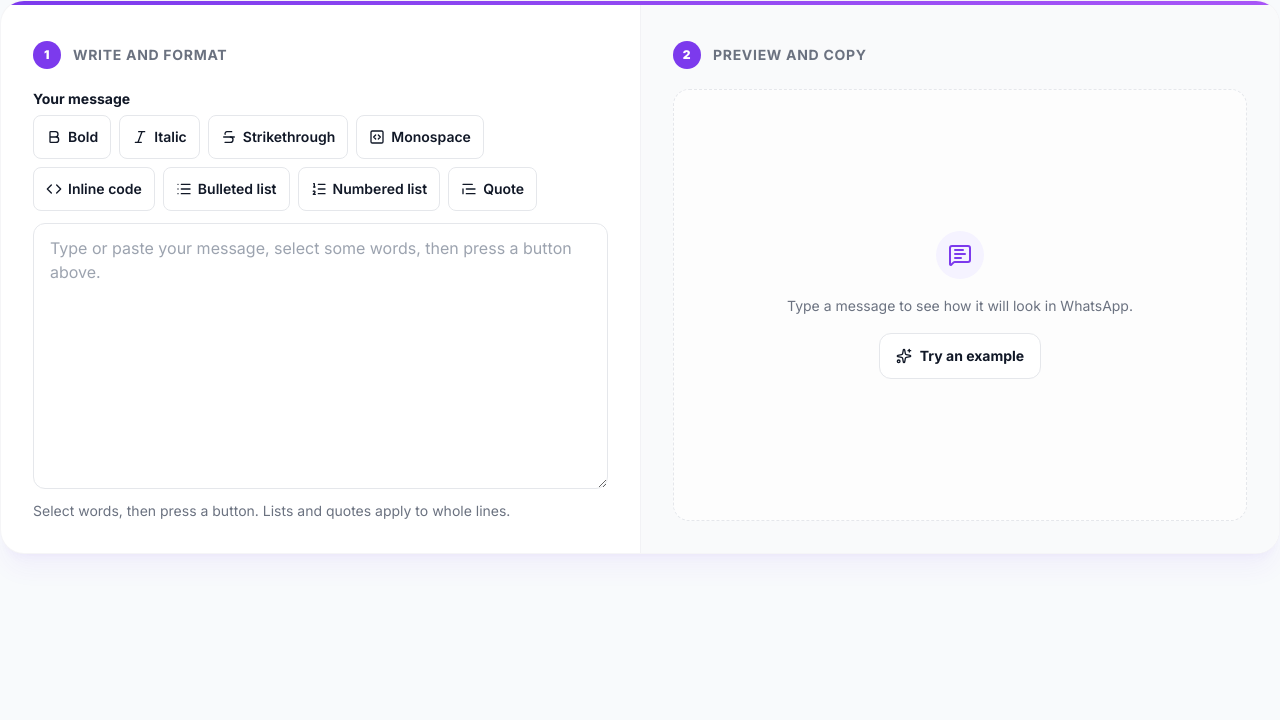
Scenario: TextFormatter › copies the message with its symbols, which is what WhatsApp reads
Replace the text in the text box labelled "Your message" with "hello" at (320, 356), box x1=33 y1=223 x2=608 y2=489
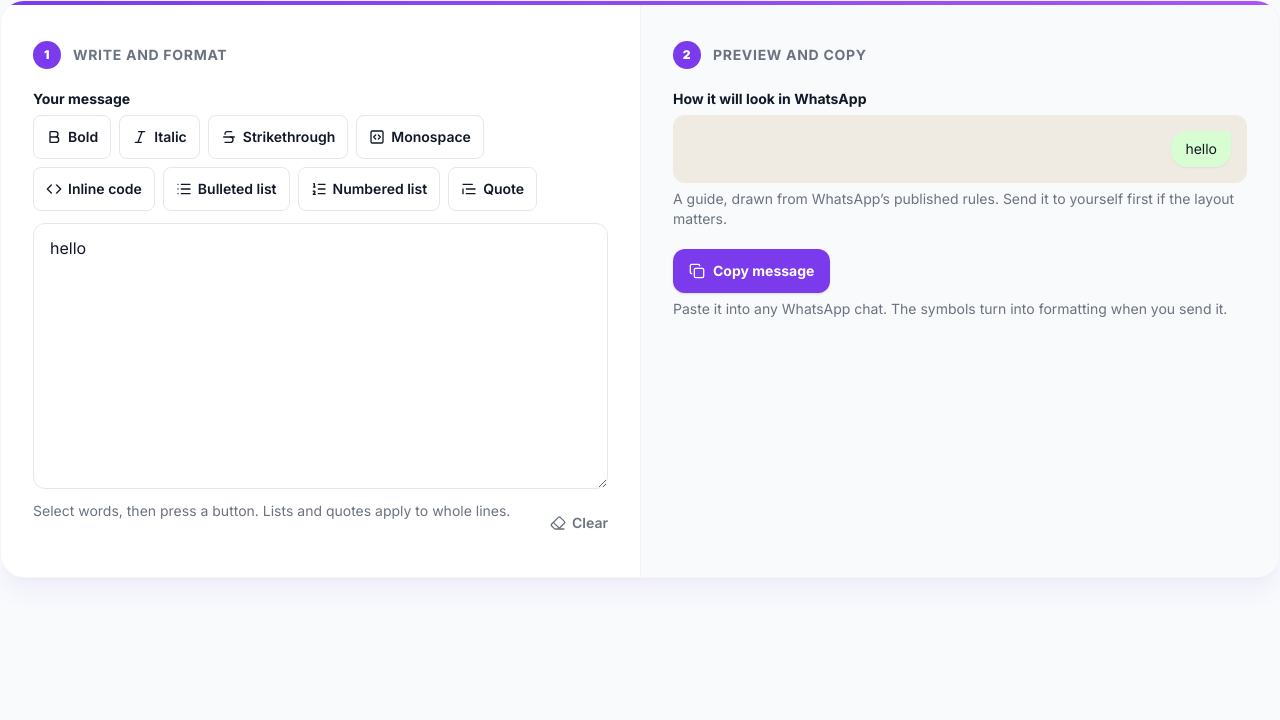
Click the button "Bold" at (72, 137), box x1=33 y1=115 x2=111 y2=159
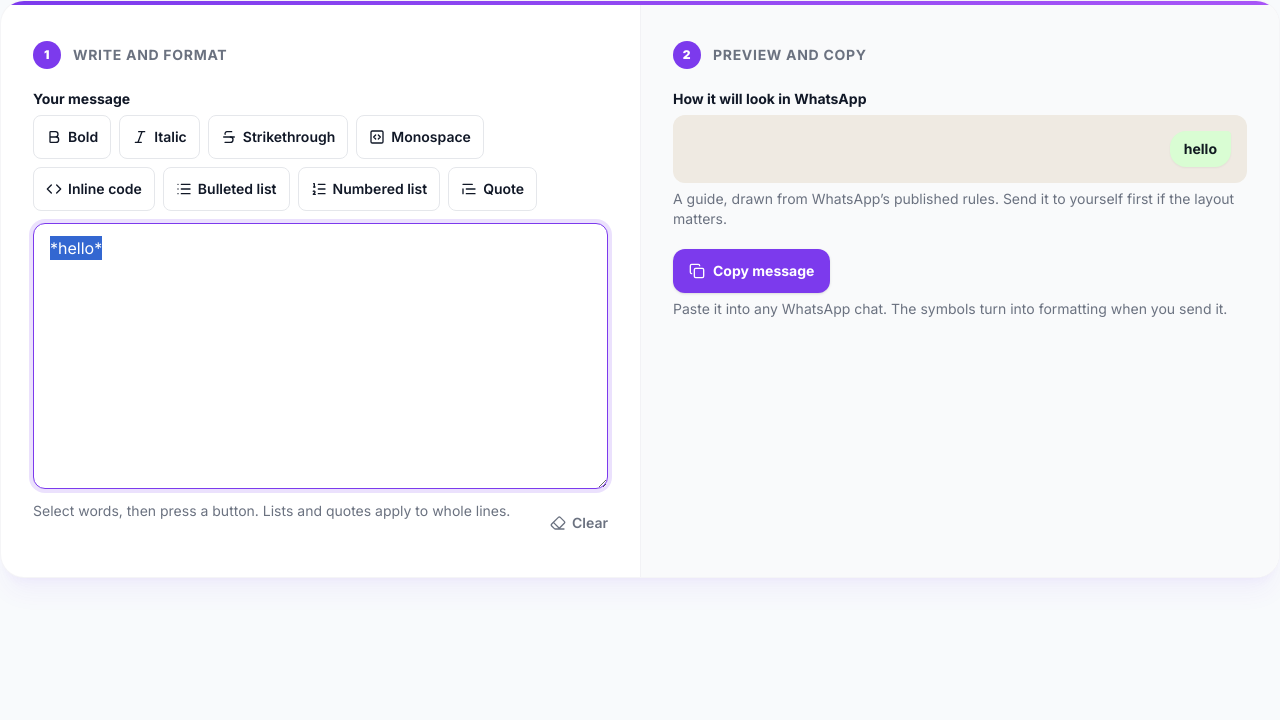
Click the button "Copy message" at (752, 271), box x1=673 y1=249 x2=830 y2=293
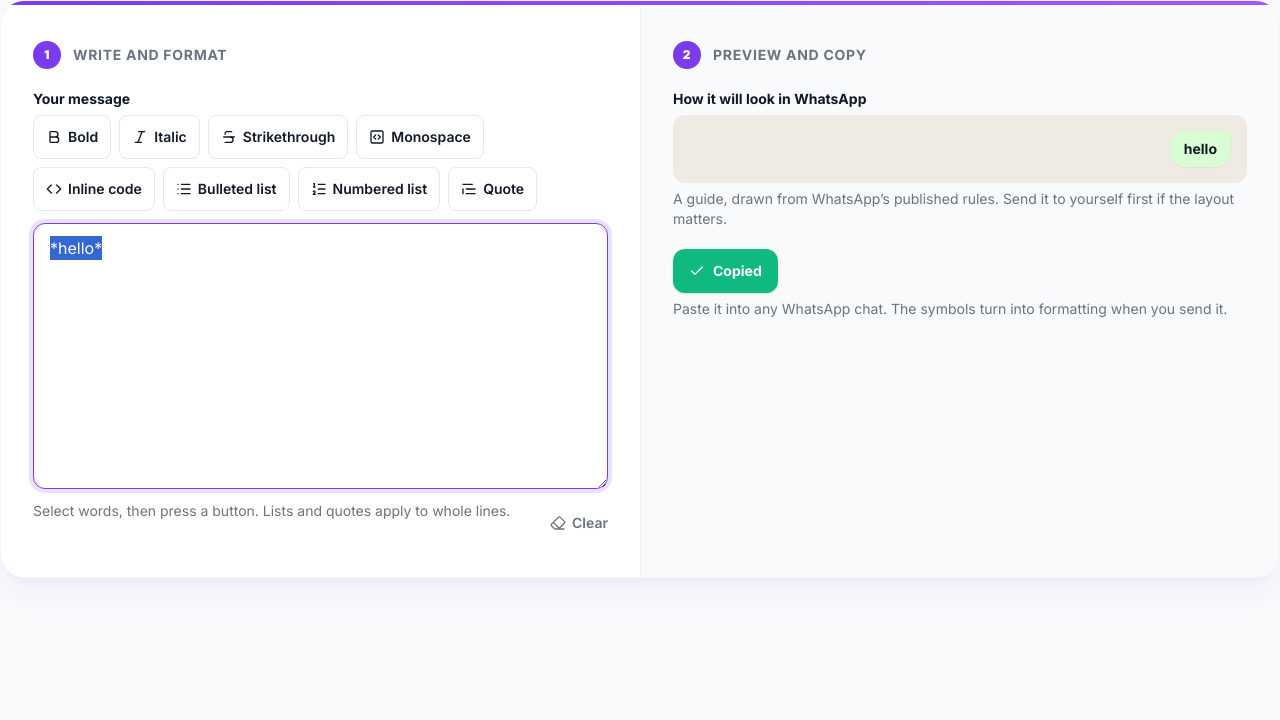
Check: the button "Copied" is shown, box x1=673 y1=249 x2=778 y2=293
